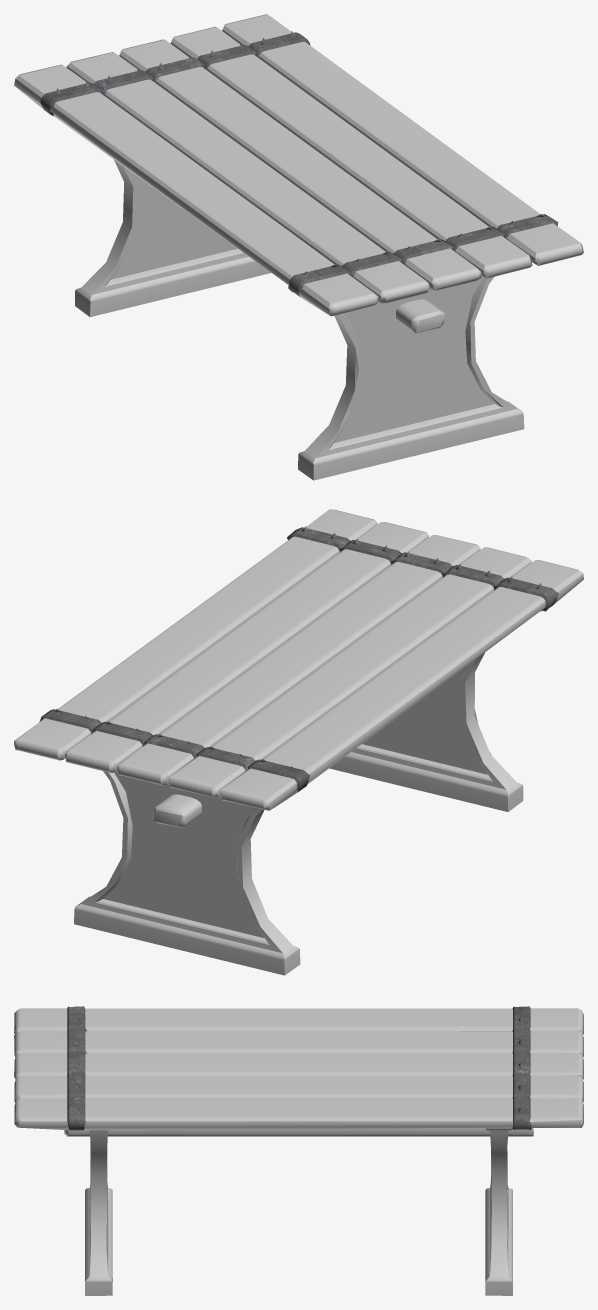
Rendered from SM_Table_Rectangle.fbx.
The picture shows the model from 3 angles, top to bottom: view 1: azimuth 30°, elevation 25°; view 2: azimuth 150°, elevation 25°; view 3: azimuth 270°, elevation 25°; orthographic projection. The views are drawn at different scales.
Parts seen in each view (by area): view 1: SM_Table_Rectangle_LOD0; view 2: SM_Table_Rectangle_LOD0; view 3: SM_Table_Rectangle_LOD0.
Boxes of the visible parts, x1,y1,x2,y2 form: SM_Table_Rectangle_LOD0: [14, 14, 583, 480]; SM_Table_Rectangle_LOD0: [14, 509, 583, 975]; SM_Table_Rectangle_LOD0: [14, 1006, 583, 1295].
Bounding box in the file's own units: 104 × 218 × 82.03.
